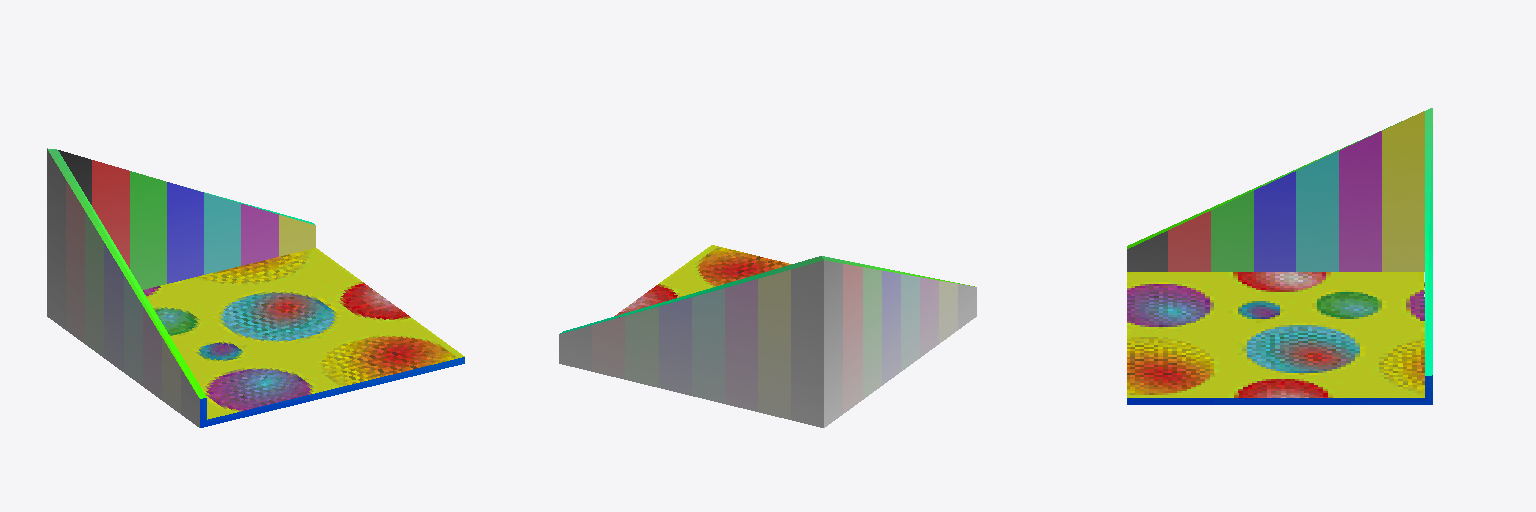
The picture shows the model from 3 angles: view 1: azimuth 30°, elevation 25°; view 2: azimuth 150°, elevation 25°; view 3: azimuth 270°, elevation 25°; orthographic projection.
Visible parts, largest first — view 1: Cube; view 2: Cube; view 3: Cube.
Part boxes in pixels (left/top/right/bottom): Cube: left=47, top=148, right=464, bottom=427; Cube: left=559, top=245, right=976, bottom=427; Cube: left=1127, top=108, right=1432, bottom=404.
Size of the model in its own units: 1 by 0.6053 by 0.9997.
Materials: 1 (1 with a texture image).